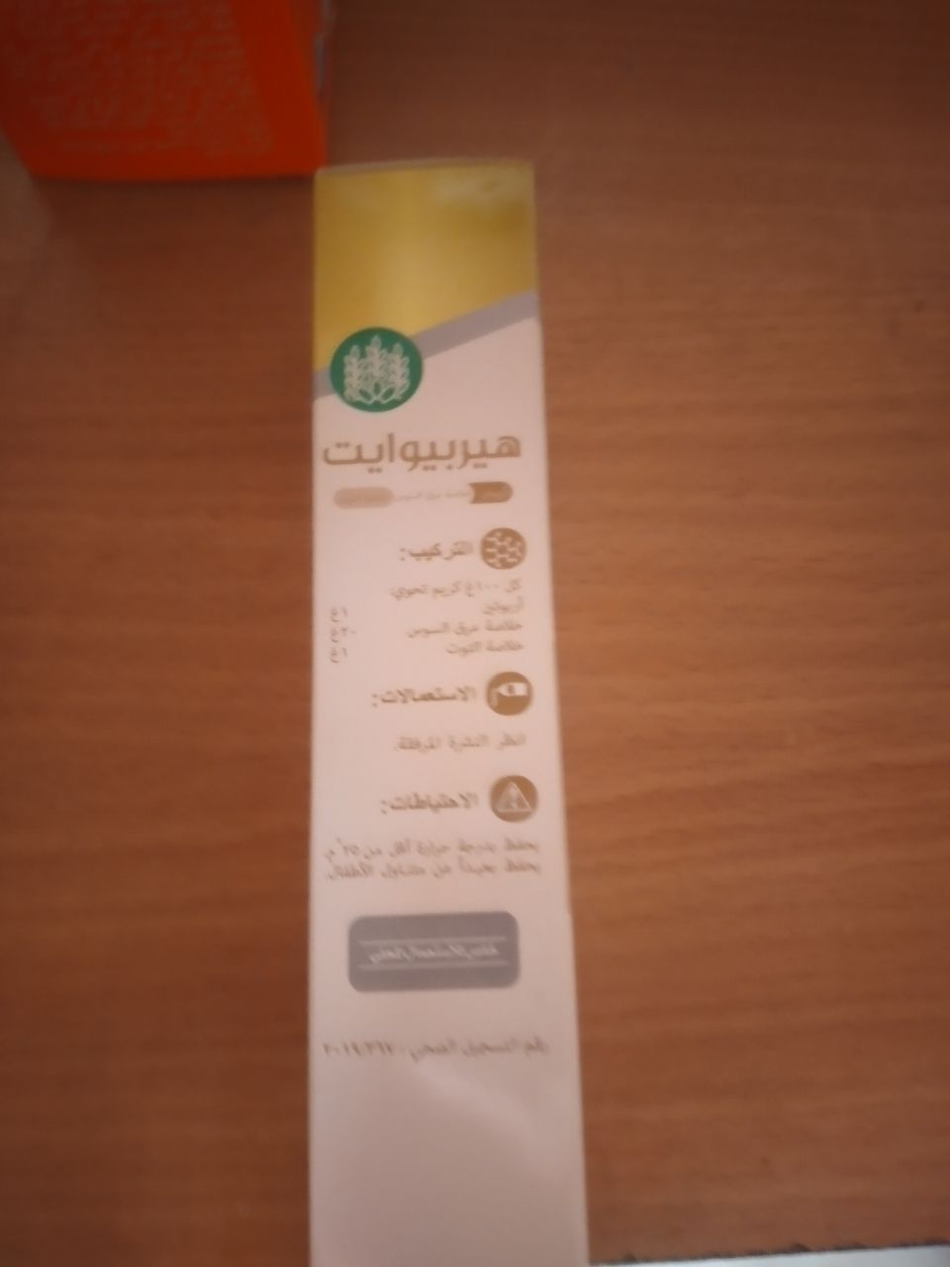Medicine: (300, 142, 587, 1267)
